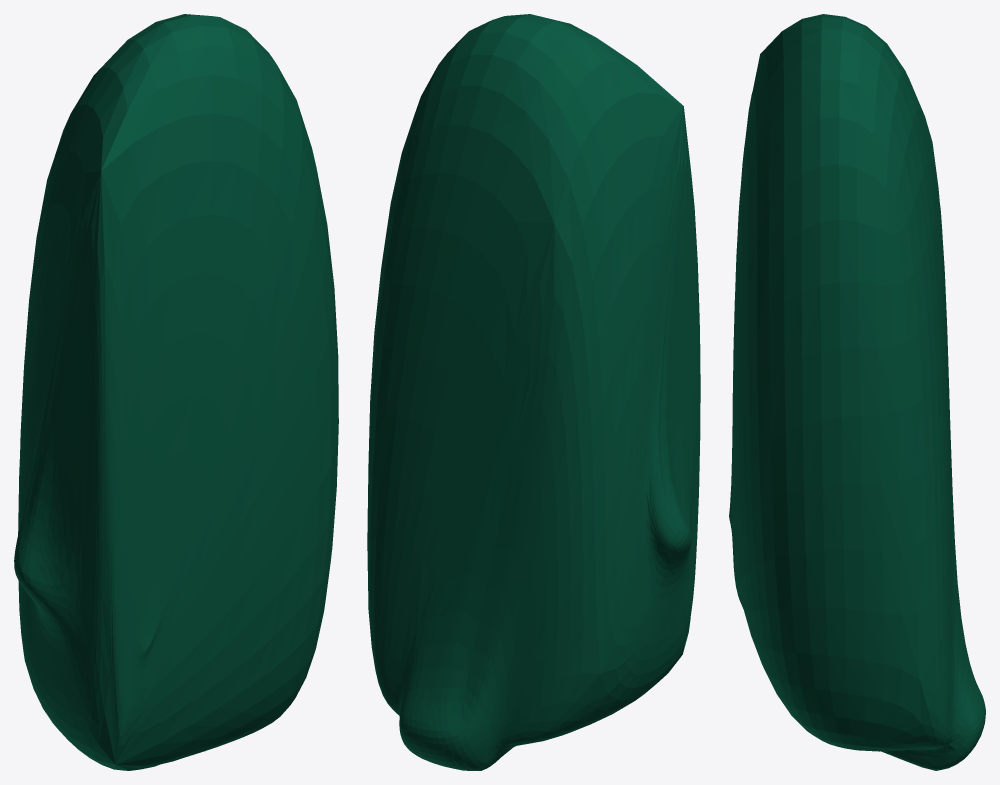
The picture shows the model from 3 angles, left to right: view 1: azimuth 30°, elevation 25°; view 2: azimuth 150°, elevation 25°; view 3: azimuth 270°, elevation 25°; orthographic projection. The views are drawn at different scales.
Parts seen in each view (by area): view 1: 319_Cube.1305; view 2: 319_Cube.1305; view 3: 319_Cube.1305.
Part boxes in pixels (<box>): 319_Cube.1305: <box>14,14,338,770</box>; 319_Cube.1305: <box>367,14,700,770</box>; 319_Cube.1305: <box>729,14,985,770</box>.
Bounding box in the file's own units: 5.09 × 11.8 × 3.81.
